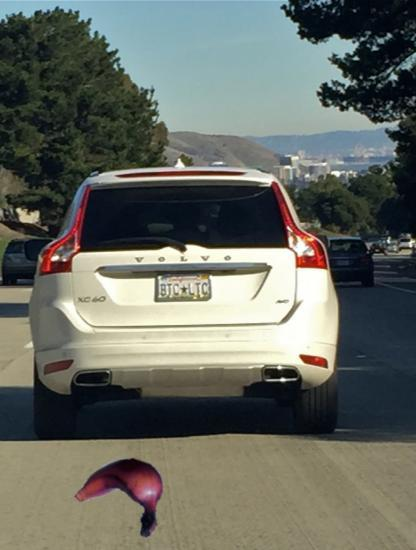Banana: (78, 448, 167, 537)
